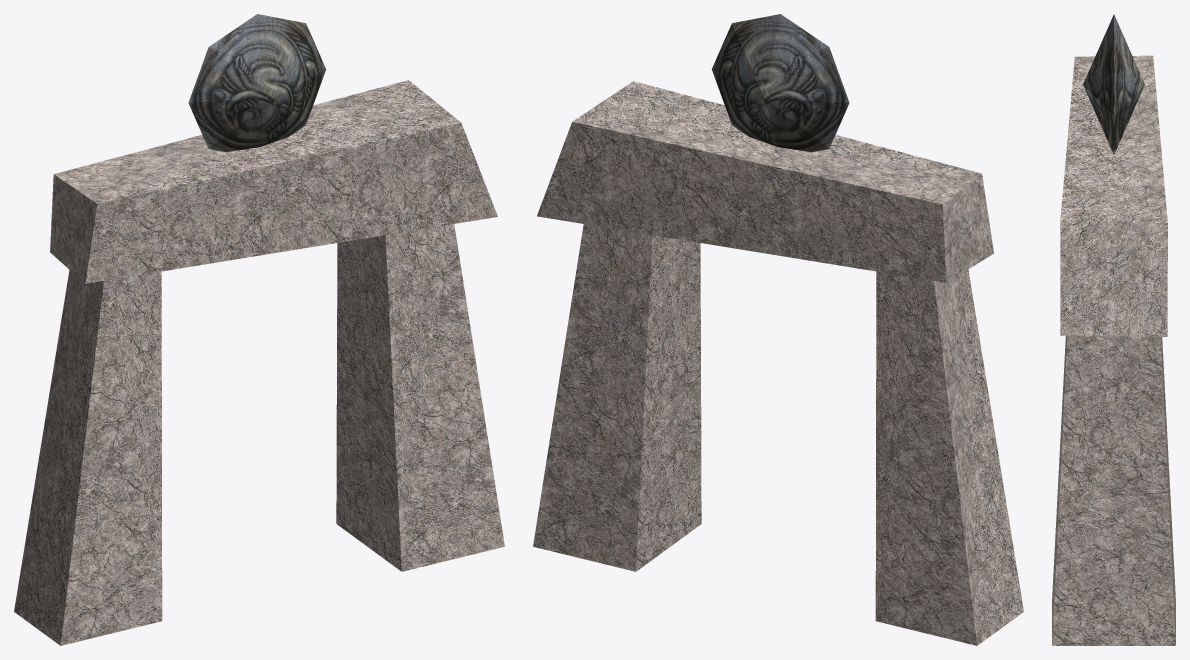
The model's file is thm_dath_mtn_clan_gate_s01_l3.fbx.
The picture shows the model from 3 angles, left to right: view 1: azimuth 30°, elevation 25°; view 2: azimuth 150°, elevation 25°; view 3: azimuth 270°, elevation 25°; orthographic projection. The views are drawn at different scales.
Visible parts, largest first — view 1: mesh_node; view 2: mesh_node; view 3: mesh_node.
Part boxes in pixels (left/top/right/bottom): mesh_node: left=14, top=14, right=504, bottom=645; mesh_node: left=533, top=14, right=1023, bottom=645; mesh_node: left=1052, top=14, right=1175, bottom=645.
Size of the model in its own units: 10.47 by 12.89 by 2.73.
Materials: 2 (2 with a texture image).
